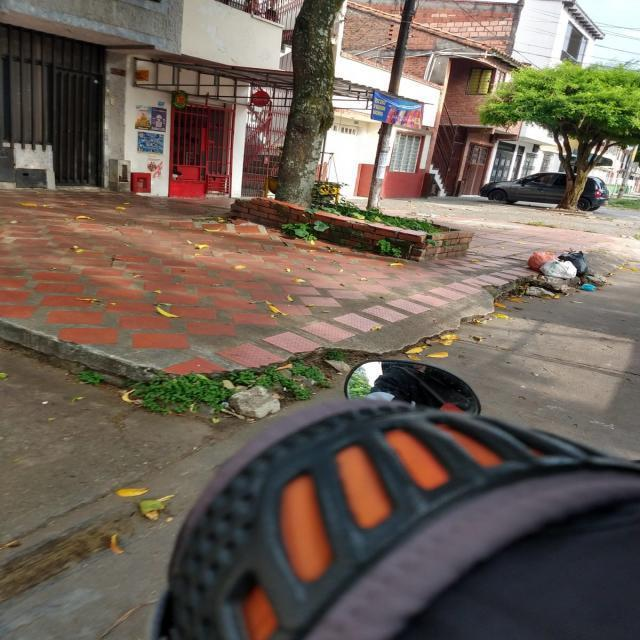Garbage_Bag: (538, 258, 578, 279), (558, 249, 590, 275), (526, 251, 558, 268)
